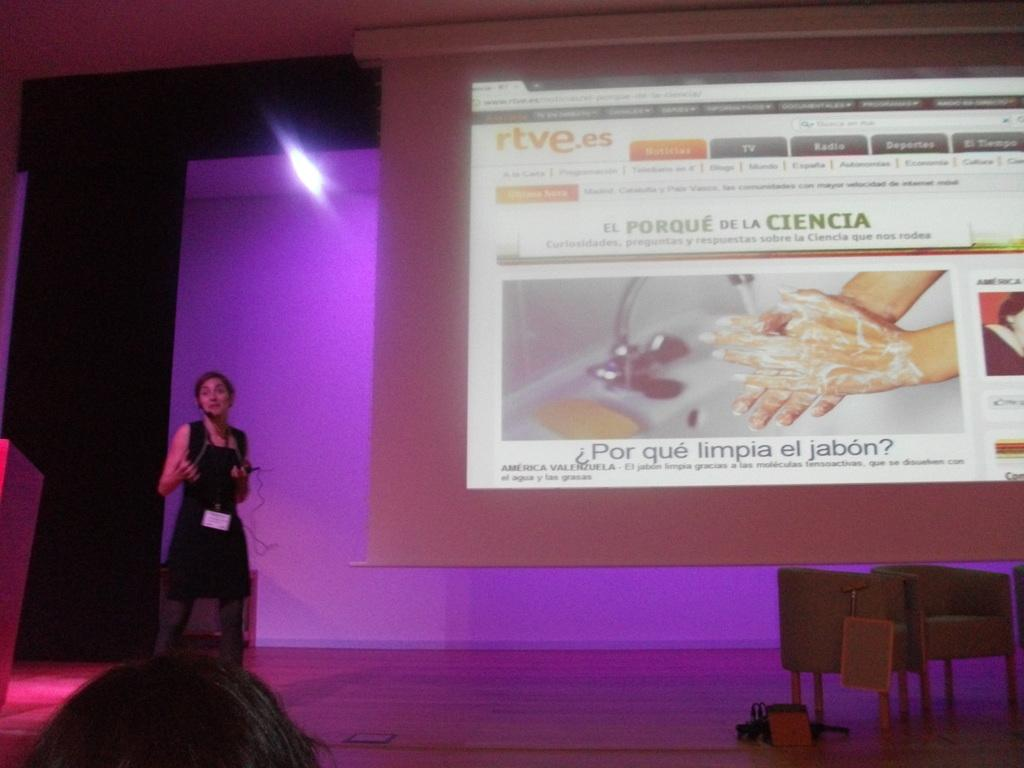Chair: (776, 565, 931, 744), (865, 563, 1019, 708)
